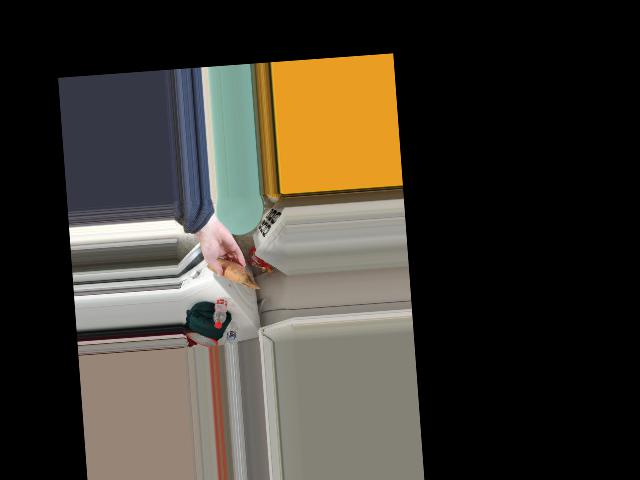sweet_potato: (211, 252, 245, 285)
